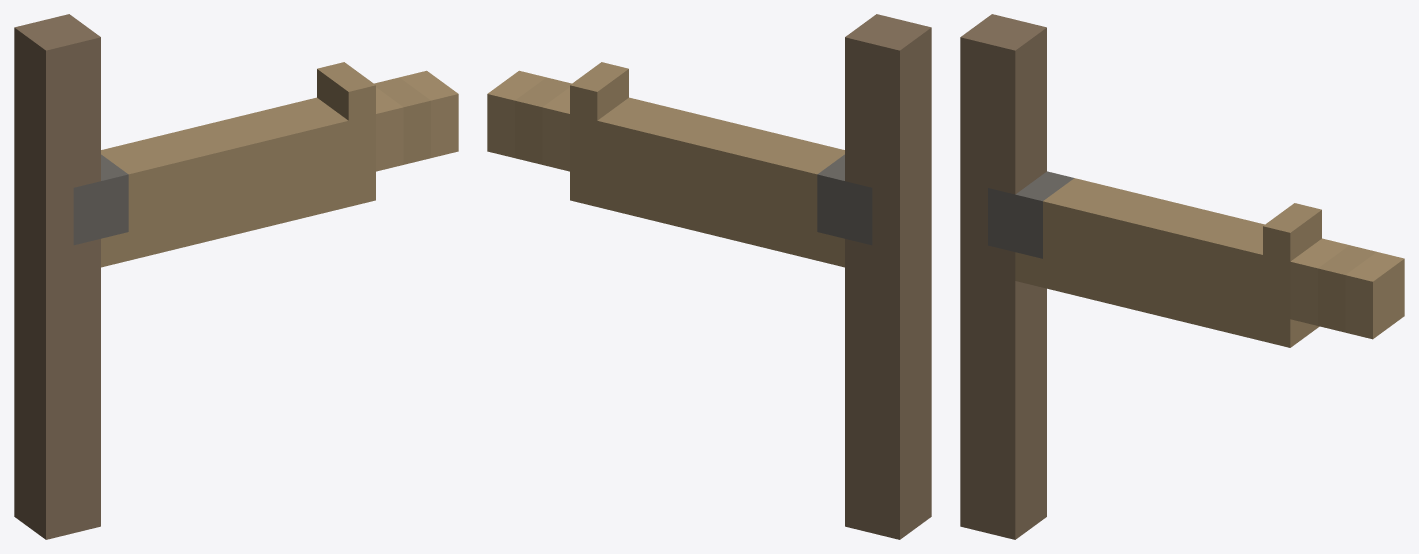
The model's file is senal_camino_01.glb.
The picture shows the model from 3 angles, left to right: view 1: azimuth 30°, elevation 25°; view 2: azimuth 150°, elevation 25°; view 3: azimuth 330°, elevation 25°; orthographic projection.
Parts seen in each view (by area): view 1: senal_camino_01; view 2: senal_camino_01; view 3: senal_camino_01.
Boxes of the visible parts, x1,y1,x2,y2 form: senal_camino_01: [14, 14, 458, 539]; senal_camino_01: [487, 14, 931, 539]; senal_camino_01: [960, 14, 1404, 539].
Size of the model in its own units: 1.5 by 1.7 by 0.2.
